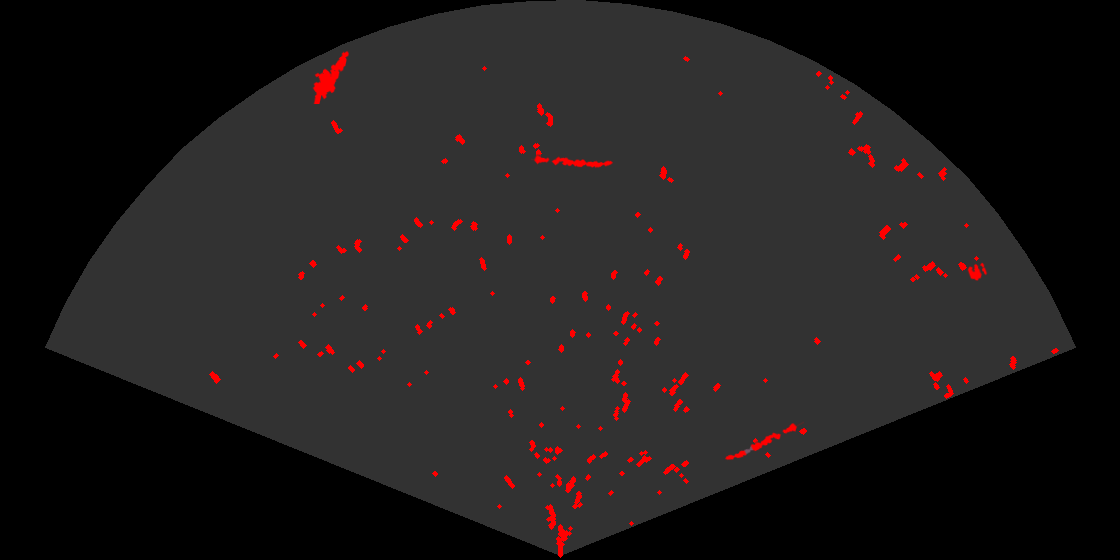ball: (966, 261, 989, 282)
chain: (723, 420, 804, 462), (531, 154, 613, 170)
frogman: (311, 49, 350, 104)
